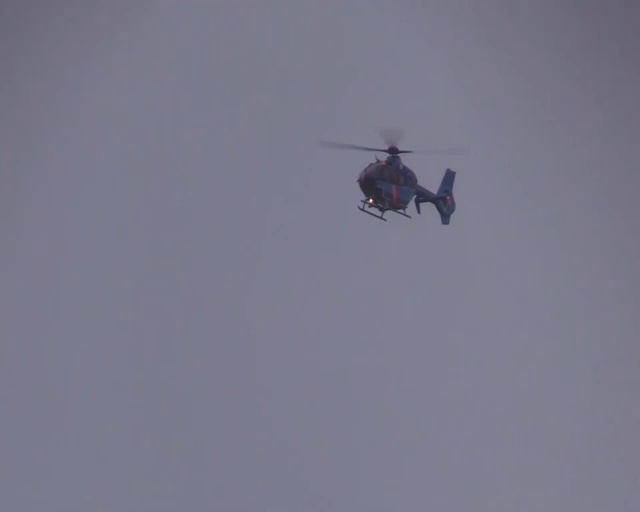HELICOPTER: (318, 125, 463, 223)
